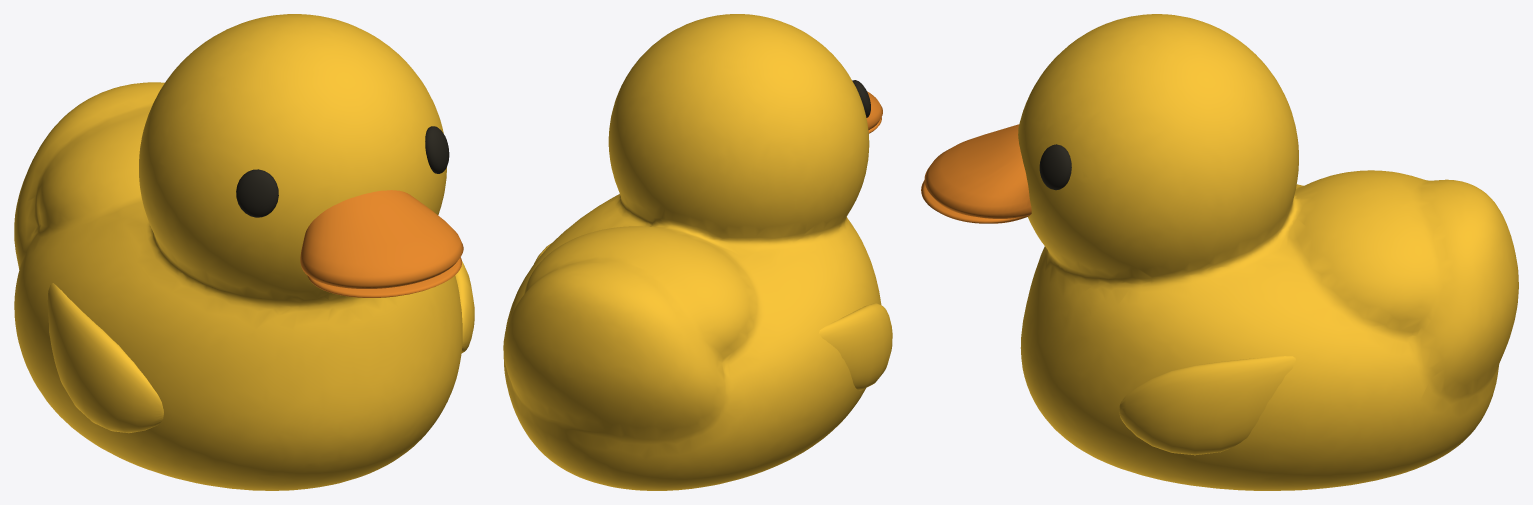
File: rubber-duck.glb
3 renders of one model, left to right at view 1: azimuth 30°, elevation 25°; view 2: azimuth 150°, elevation 25°; view 3: azimuth 270°, elevation 25°, orthographic. The views are drawn at different scales.
Visible parts, largest first — view 1: Duck body and head__asset.001, Lower bill__asset.001, Left eye__asset.001; view 2: Duck body and head__asset.001, Lower bill__asset.001; view 3: Duck body and head__asset.001, Lower bill__asset.001, Left eye__asset.001.
Part boxes in pixels (x1=…): Duck body and head__asset.001: x1=14, y1=14, x2=474, y2=490; Lower bill__asset.001: x1=300, y1=190, x2=463, y2=297; Left eye__asset.001: x1=236, y1=126, x2=449, y2=217; Duck body and head__asset.001: x1=503, y1=14, x2=892, y2=490; Lower bill__asset.001: x1=866, y1=91, x2=882, y2=133; Duck body and head__asset.001: x1=1018, y1=14, x2=1518, y2=490; Lower bill__asset.001: x1=921, y1=124, x2=1031, y2=223; Left eye__asset.001: x1=1039, y1=144, x2=1071, y2=190.
Size of the model in its own units: 0.1842 by 0.2002 by 0.2628.
